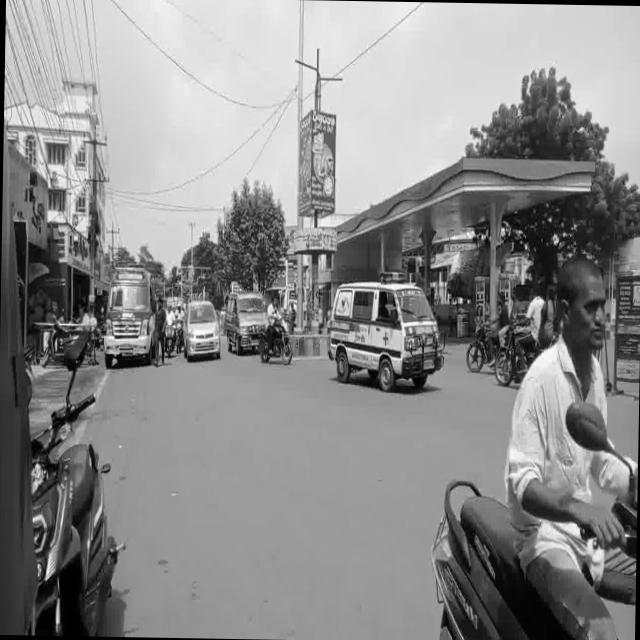ambulance: (326, 268, 444, 386), (103, 258, 156, 362), (224, 291, 264, 354)
